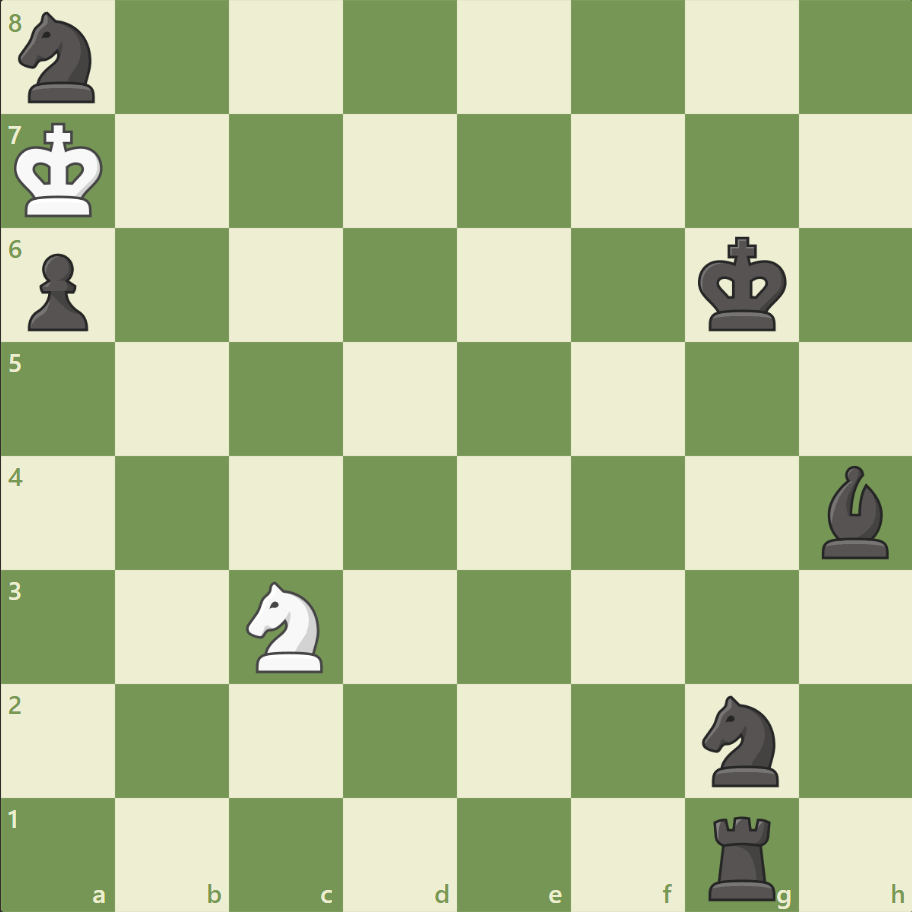K: (11, 117, 111, 225)
N: (238, 575, 335, 677)
b: (812, 460, 896, 563)
k: (692, 231, 792, 339)
n: (11, 7, 108, 110), (692, 688, 789, 791)
p: (20, 246, 95, 337)
r: (700, 806, 783, 904)
